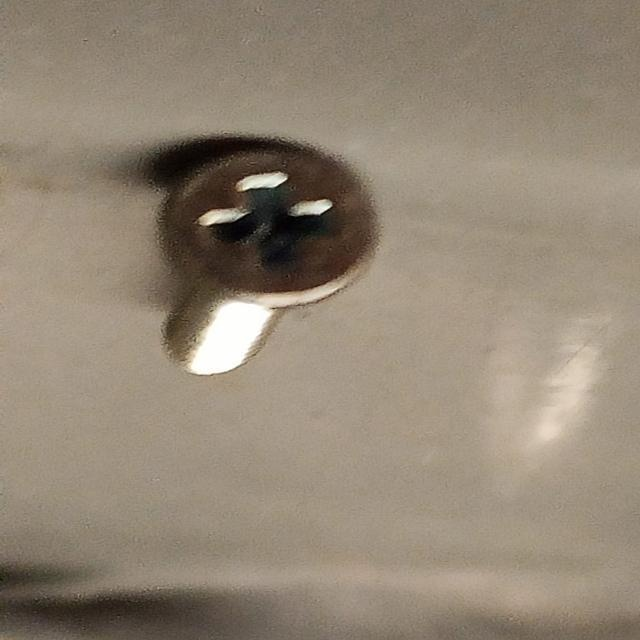phillips: (158, 140, 386, 308)
